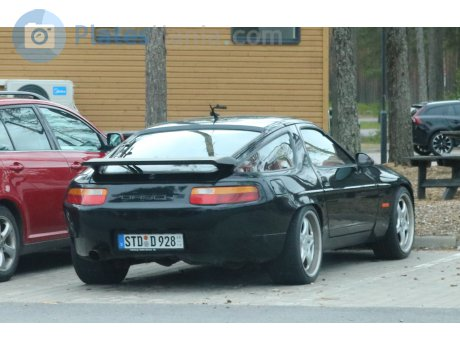License Plates: (124, 233, 175, 246)
